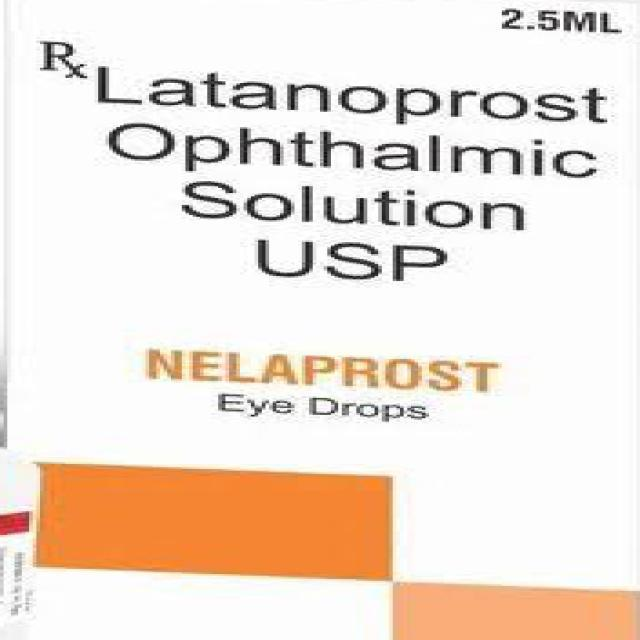drug-name: (140, 343, 499, 395)
